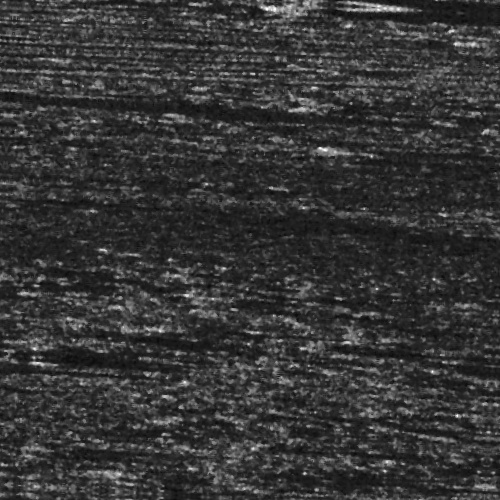object: (282, 138, 365, 147), (0, 380, 3, 385)
shadow: (0, 98, 357, 119), (324, 138, 401, 147), (0, 380, 56, 385)
